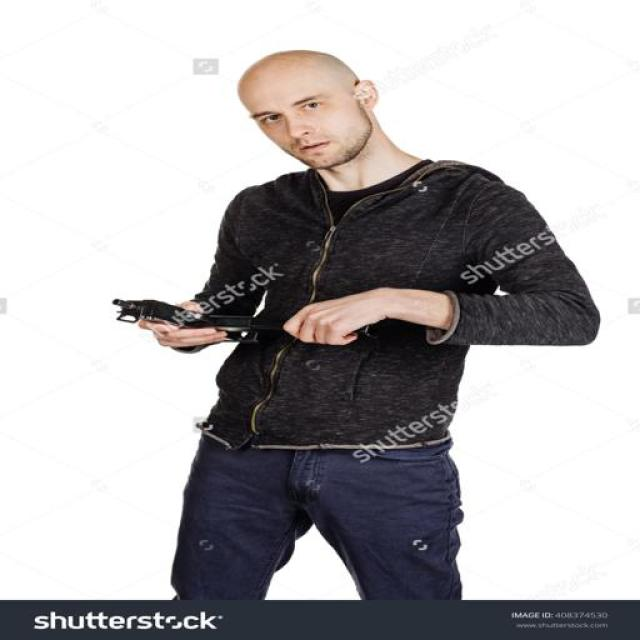pistol: (109, 294, 265, 348)
